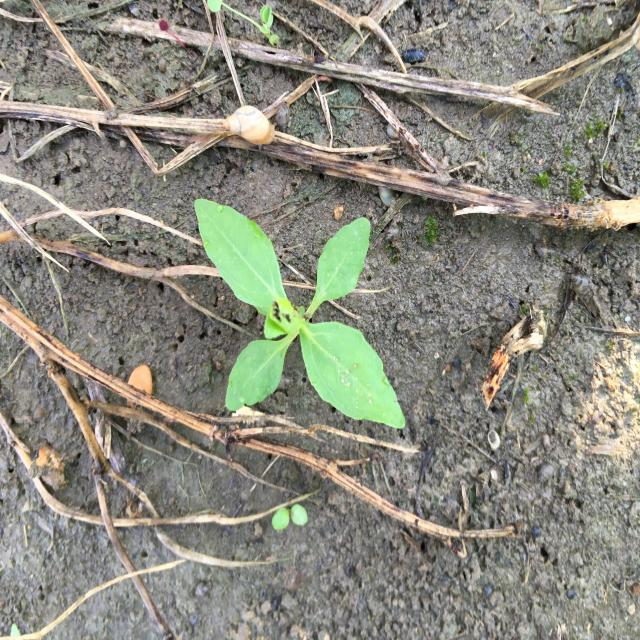Eclipta: (192, 195, 408, 432)
